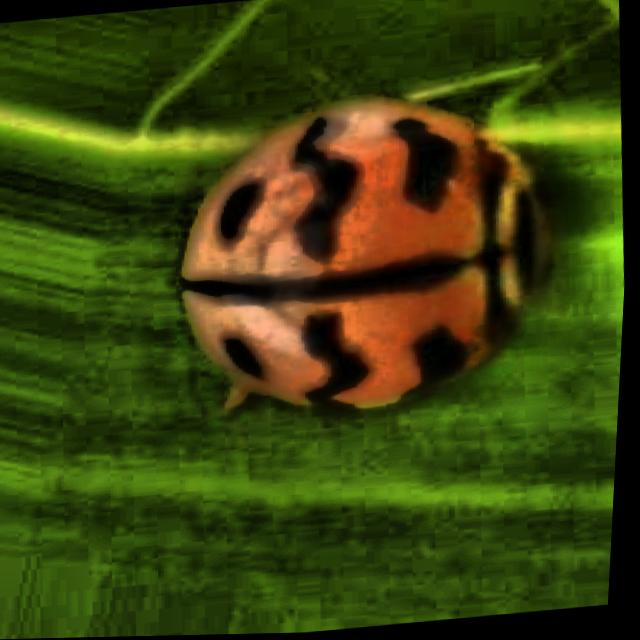Asian-Lady-beetle: (66, 24, 639, 532)
